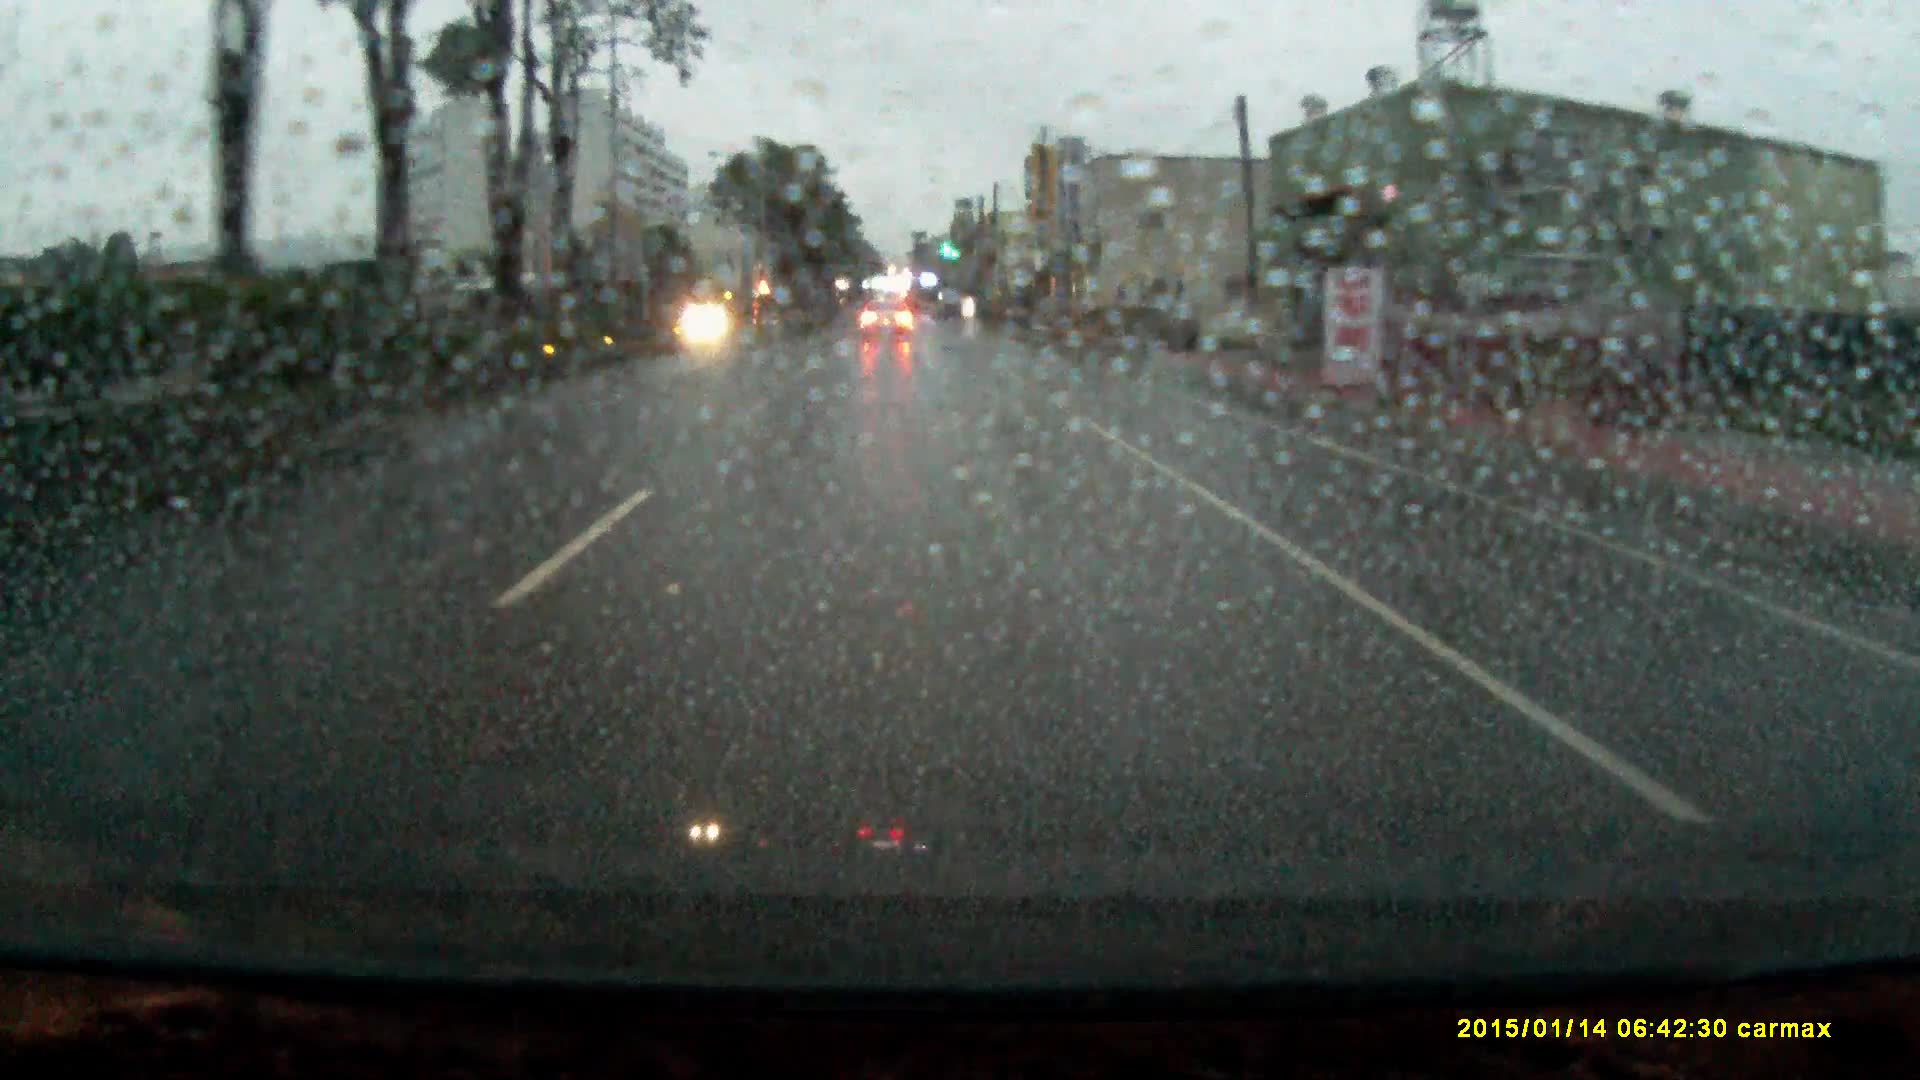vehicle: (860, 301, 913, 345)
